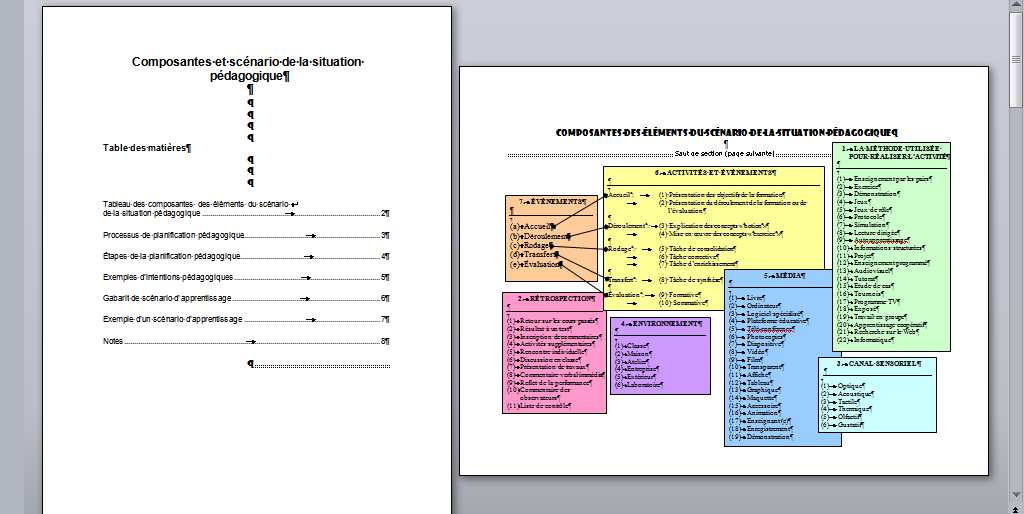texte: (132, 56, 364, 68), (210, 71, 290, 82), (103, 143, 191, 153), (247, 84, 254, 95), (247, 99, 254, 107), (247, 111, 254, 119), (247, 122, 254, 130), (247, 134, 254, 142), (247, 156, 254, 164), (247, 167, 254, 175), (247, 179, 254, 187)
